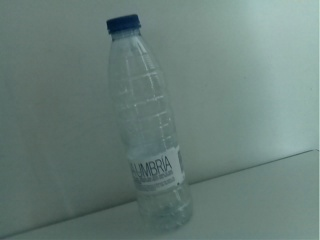botella plastico: (105, 13, 192, 229)
